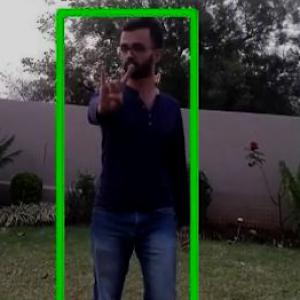takeoff-hand: (84, 56, 140, 119)
